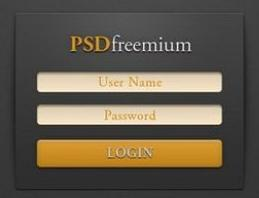button: (35, 138, 223, 169)
field: (35, 103, 222, 127), (37, 70, 223, 93)
